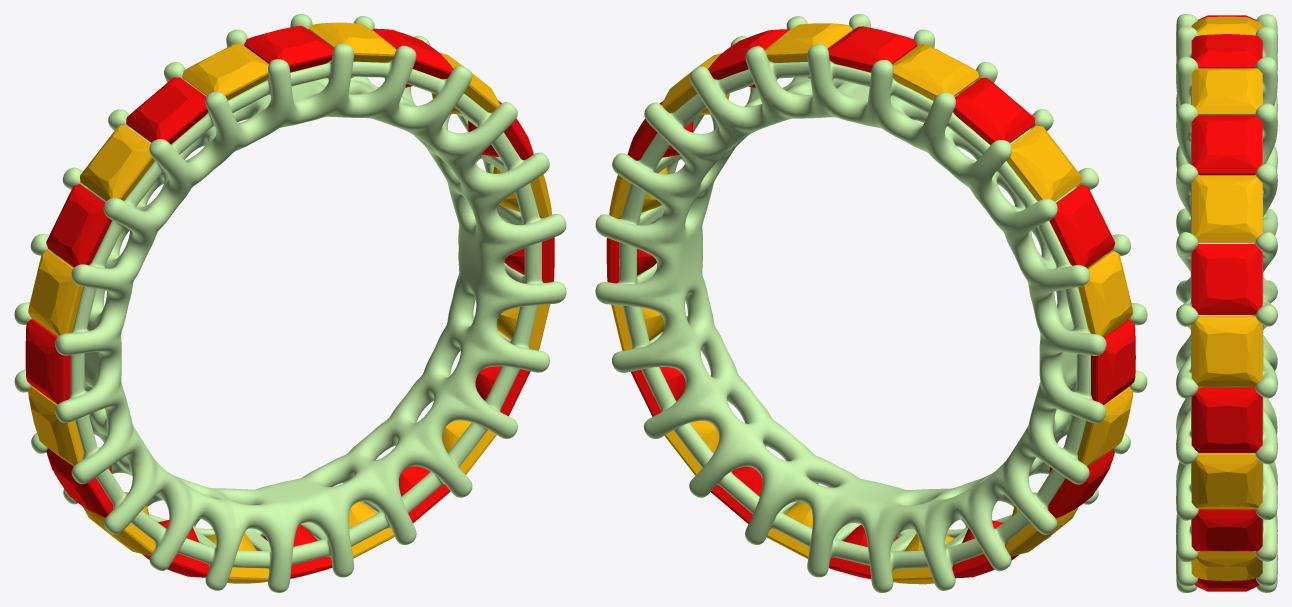
File: TCC-RN-CR-32191-Princess-Eternity-15.glb
3 renders of one model, left to right at view 1: azimuth 30°, elevation 25°; view 2: azimuth 150°, elevation 25°; view 3: azimuth 270°, elevation 25°, orthographic.
Visible parts, largest first — view 1: Metal03, Diamond Band02.001, Diamond Band01.002, Diamond Band01.001, Diamond Band02.002, Diamond Band02, Diamond Band01.003, Diamond Band01, Diamond Band02.003, Diamond Band02.011, Diamond Band01.004, Diamond Band01.011 (+13 smaller); view 2: Metal03, Diamond Band02.001, Diamond Band01.002, Diamond Band01.001, Diamond Band02.002, Diamond Band02, Diamond Band01.003, Diamond Band01, Diamond Band02.003, Diamond Band02.011, Diamond Band01.004, Diamond Band01.011 (+13 smaller); view 3: Metal03, Diamond Band01.010, Diamond Band02.009, Diamond Band02.010, Diamond Band01.009, Diamond Band01.011, Diamond Band02.008, Diamond Band02.011, Diamond Band01.008, Diamond Band01, Diamond Band02.007, Diamond Band02 (+1 smaller).
Boxes of the visible parts, bbox=[...] form: Metal03: bbox=[14, 14, 566, 592]; Diamond Band02.001: bbox=[80, 125, 154, 201]; Diamond Band01.002: bbox=[46, 184, 111, 267]; Diamond Band01.001: bbox=[126, 77, 208, 144]; Diamond Band02.002: bbox=[28, 250, 82, 336]; Diamond Band02: bbox=[182, 43, 268, 100]; Diamond Band01.003: bbox=[25, 319, 70, 404]; Diamond Band01: bbox=[244, 26, 333, 72]; Diamond Band02.003: bbox=[28, 386, 89, 465]; Diamond Band02.011: bbox=[308, 22, 396, 78]; Diamond Band01.004: bbox=[46, 448, 113, 517]; Diamond Band01.011: bbox=[372, 28, 453, 87]; Metal03: bbox=[595, 14, 1147, 592]; Diamond Band02.001: bbox=[1006, 125, 1081, 201]; Diamond Band01.002: bbox=[1049, 184, 1114, 267]; Diamond Band01.001: bbox=[953, 77, 1034, 144]; Diamond Band02.002: bbox=[1078, 251, 1133, 337]; Diamond Band02: bbox=[892, 43, 979, 100]; Diamond Band01.003: bbox=[1091, 319, 1135, 404]; Diamond Band01: bbox=[828, 26, 916, 72]; Diamond Band02.003: bbox=[1071, 387, 1133, 466]; Diamond Band02.011: bbox=[765, 23, 852, 78]; Diamond Band01.004: bbox=[1048, 448, 1114, 518]; Diamond Band01.011: bbox=[708, 29, 788, 88]; Metal03: bbox=[1176, 14, 1277, 592]; Diamond Band01.010: bbox=[1191, 244, 1262, 314]; Diamond Band02.009: bbox=[1191, 316, 1262, 386]; Diamond Band02.010: bbox=[1191, 175, 1262, 242]; Diamond Band01.009: bbox=[1191, 387, 1262, 452]; Diamond Band01.011: bbox=[1191, 115, 1262, 175]; Diamond Band02.008: bbox=[1191, 453, 1262, 508]; Diamond Band02.011: bbox=[1191, 68, 1262, 115]; Diamond Band01.008: bbox=[1191, 509, 1262, 551]; Diamond Band01: bbox=[1191, 34, 1262, 68]; Diamond Band02.007: bbox=[1191, 551, 1262, 580]; Diamond Band02: bbox=[1191, 16, 1262, 35].
Size of the model in its own units: 24.29 by 24.29 by 4.31.
